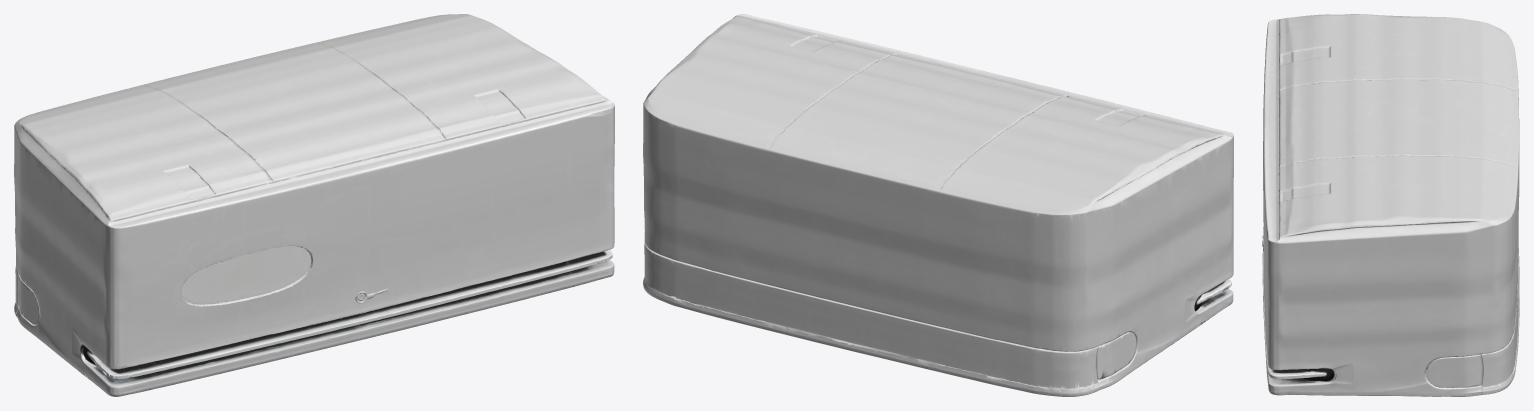
The model's file is IDC12M2.glb.
3 renders of one model, left to right at view 1: azimuth 30°, elevation 25°; view 2: azimuth 150°, elevation 25°; view 3: azimuth 270°, elevation 25°, orthographic. The views are drawn at different scales.
Parts seen in each view (by area): view 1: tripo_node_7b970362-5360-433c-a0b1-4599095491a6; view 2: tripo_node_7b970362-5360-433c-a0b1-4599095491a6; view 3: tripo_node_7b970362-5360-433c-a0b1-4599095491a6.
Boxes of the visible parts, left/top/right/bottom form: tripo_node_7b970362-5360-433c-a0b1-4599095491a6: left=14, top=14, right=614, bottom=396; tripo_node_7b970362-5360-433c-a0b1-4599095491a6: left=643, top=14, right=1233, bottom=396; tripo_node_7b970362-5360-433c-a0b1-4599095491a6: left=1262, top=14, right=1519, bottom=396.
Size of the model in its own units: 0.8264 by 0.307 by 0.4019.
Materials: 1 (1 with a texture image).
